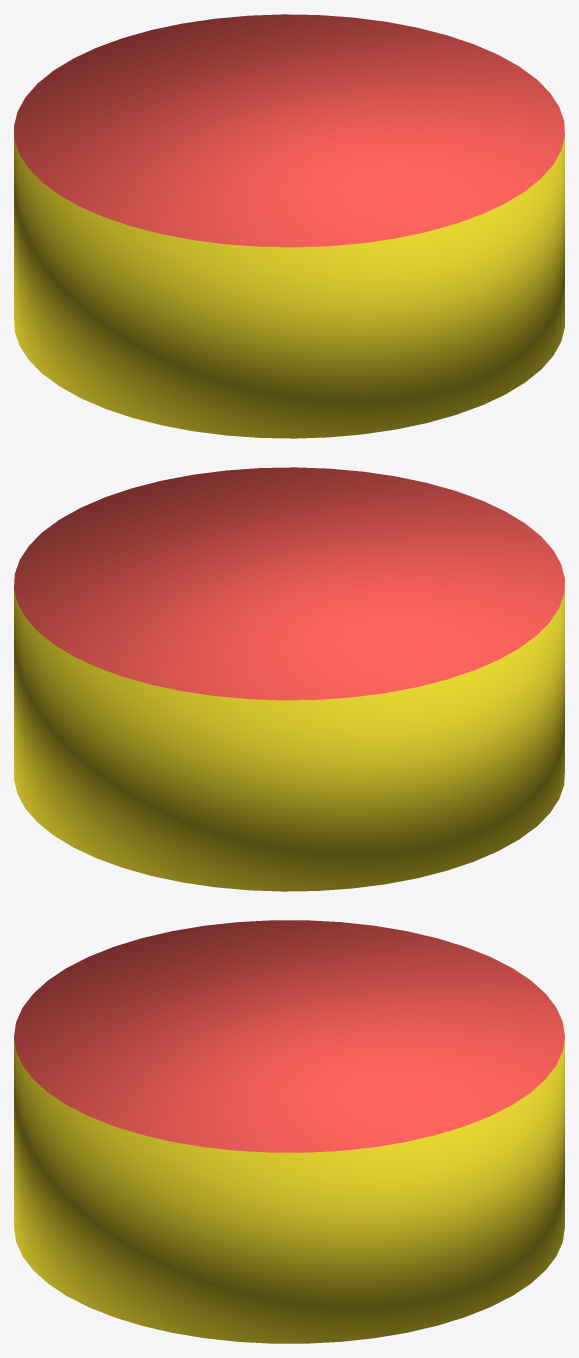
Rendered from CylinderPlatform.fbx.
3 views of the same model, one above another, from view 1: azimuth 30°, elevation 25°; view 2: azimuth 150°, elevation 25°; view 3: azimuth 270°, elevation 25° (orthographic).
Parts seen in each view (by area): view 1: CylinderPlatform; view 2: CylinderPlatform; view 3: CylinderPlatform.
Part boxes in pixels (left/top/right/bottom): CylinderPlatform: left=14, top=14, right=564, bottom=438; CylinderPlatform: left=14, top=467, right=564, bottom=891; CylinderPlatform: left=14, top=920, right=564, bottom=1343.
Bounding box in the file's own units: 200 × 76.49 × 200.
